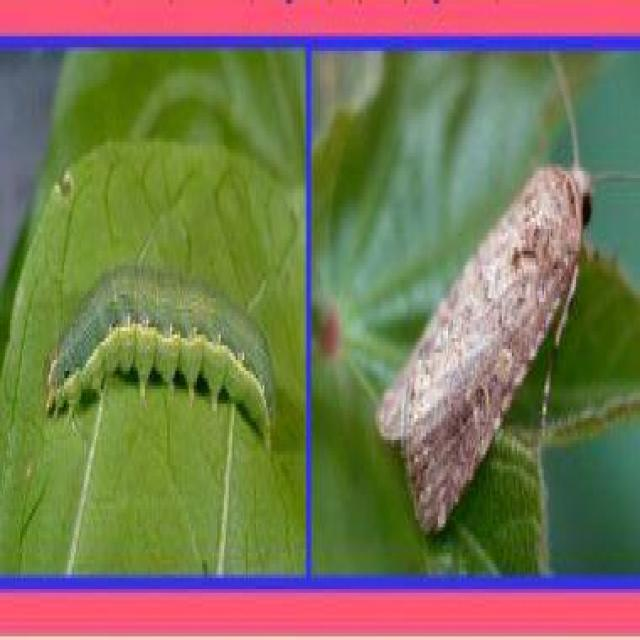BeetArmyWorm-Adult-: (366, 130, 606, 542)
BeetArmyWorm-Larva-: (45, 261, 284, 467)
